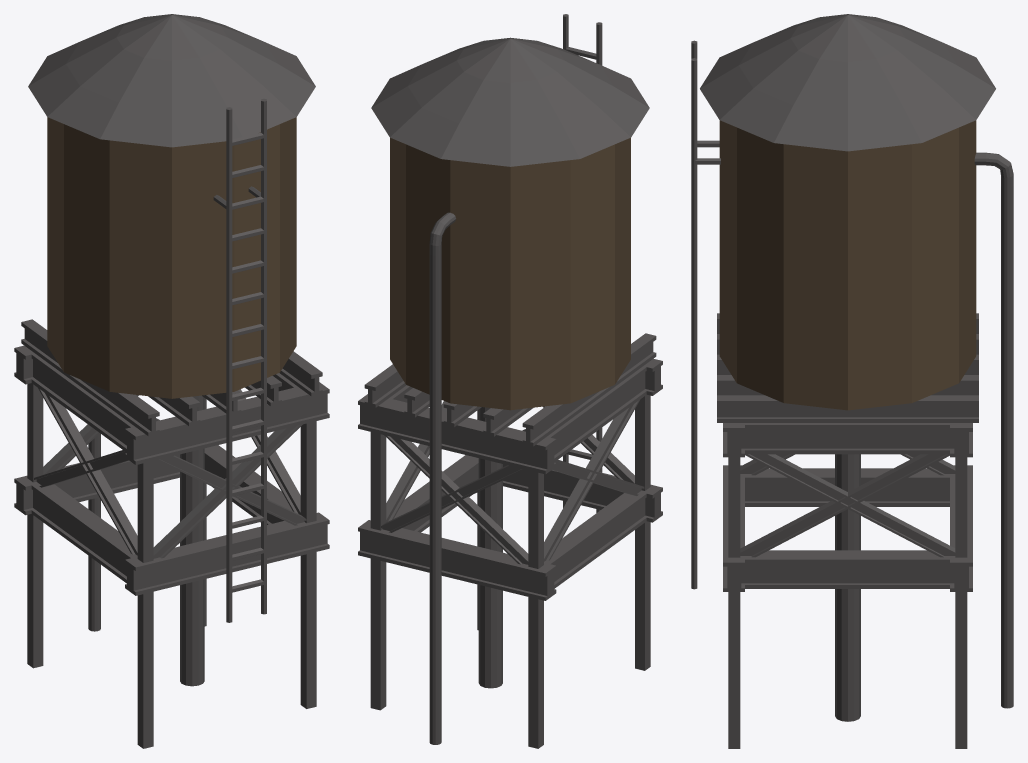
The model's file is Wassertank.fbx.
The picture shows the model from 3 angles, left to right: view 1: azimuth 30°, elevation 25°; view 2: azimuth 150°, elevation 25°; view 3: azimuth 270°, elevation 25°; orthographic projection. The views are drawn at different scales.
Parts seen in each view (by area): view 1: Leiter_1, Tank; view 2: Leiter_1, Tank; view 3: Leiter_1, Tank.
Boxes of the visible parts, x1=… form: Leiter_1: x1=14, y1=14, x2=329, y2=748; Tank: x1=47, y1=117, x2=296, y2=398; Leiter_1: x1=358, y1=14, x2=662, y2=748; Tank: x1=390, y1=137, x2=630, y2=410; Leiter_1: x1=691, y1=14, x2=1013, y2=748; Tank: x1=719, y1=120, x2=976, y2=410.
Size of the model in its own units: 246 by 632 by 267.
